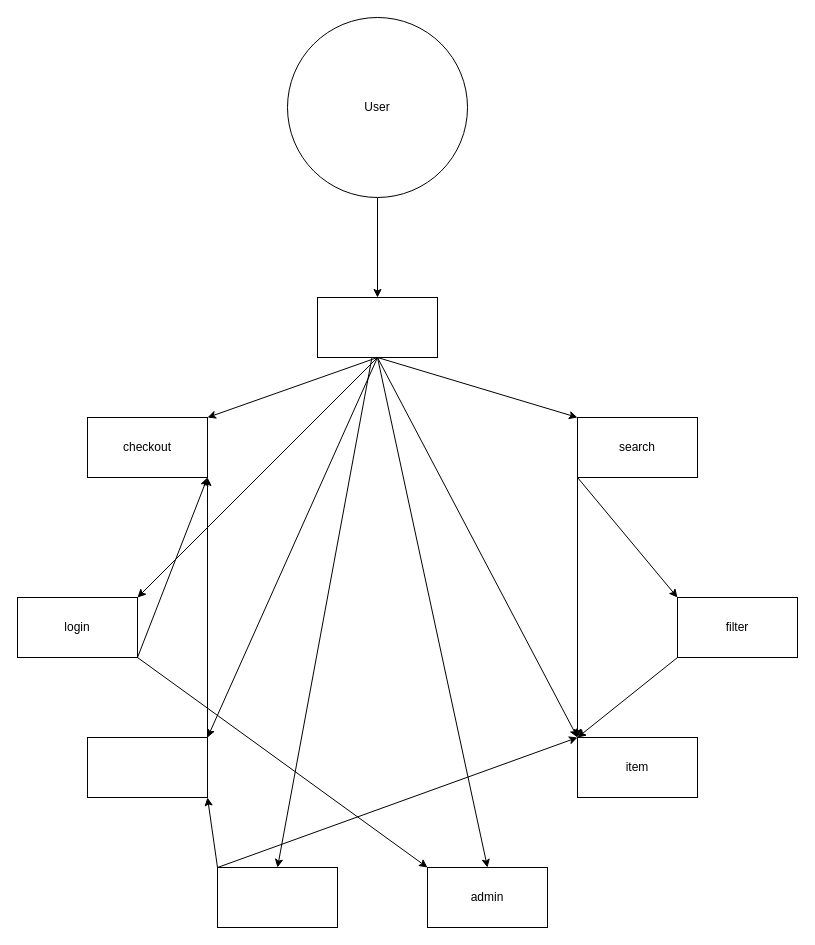
Image size: 815x945. Some labels were removed from this diagram. Each missing label, with the centre of its shape:
add to cart: the point at 277,897
cart: the point at 147,767
homepage: the point at 377,327
